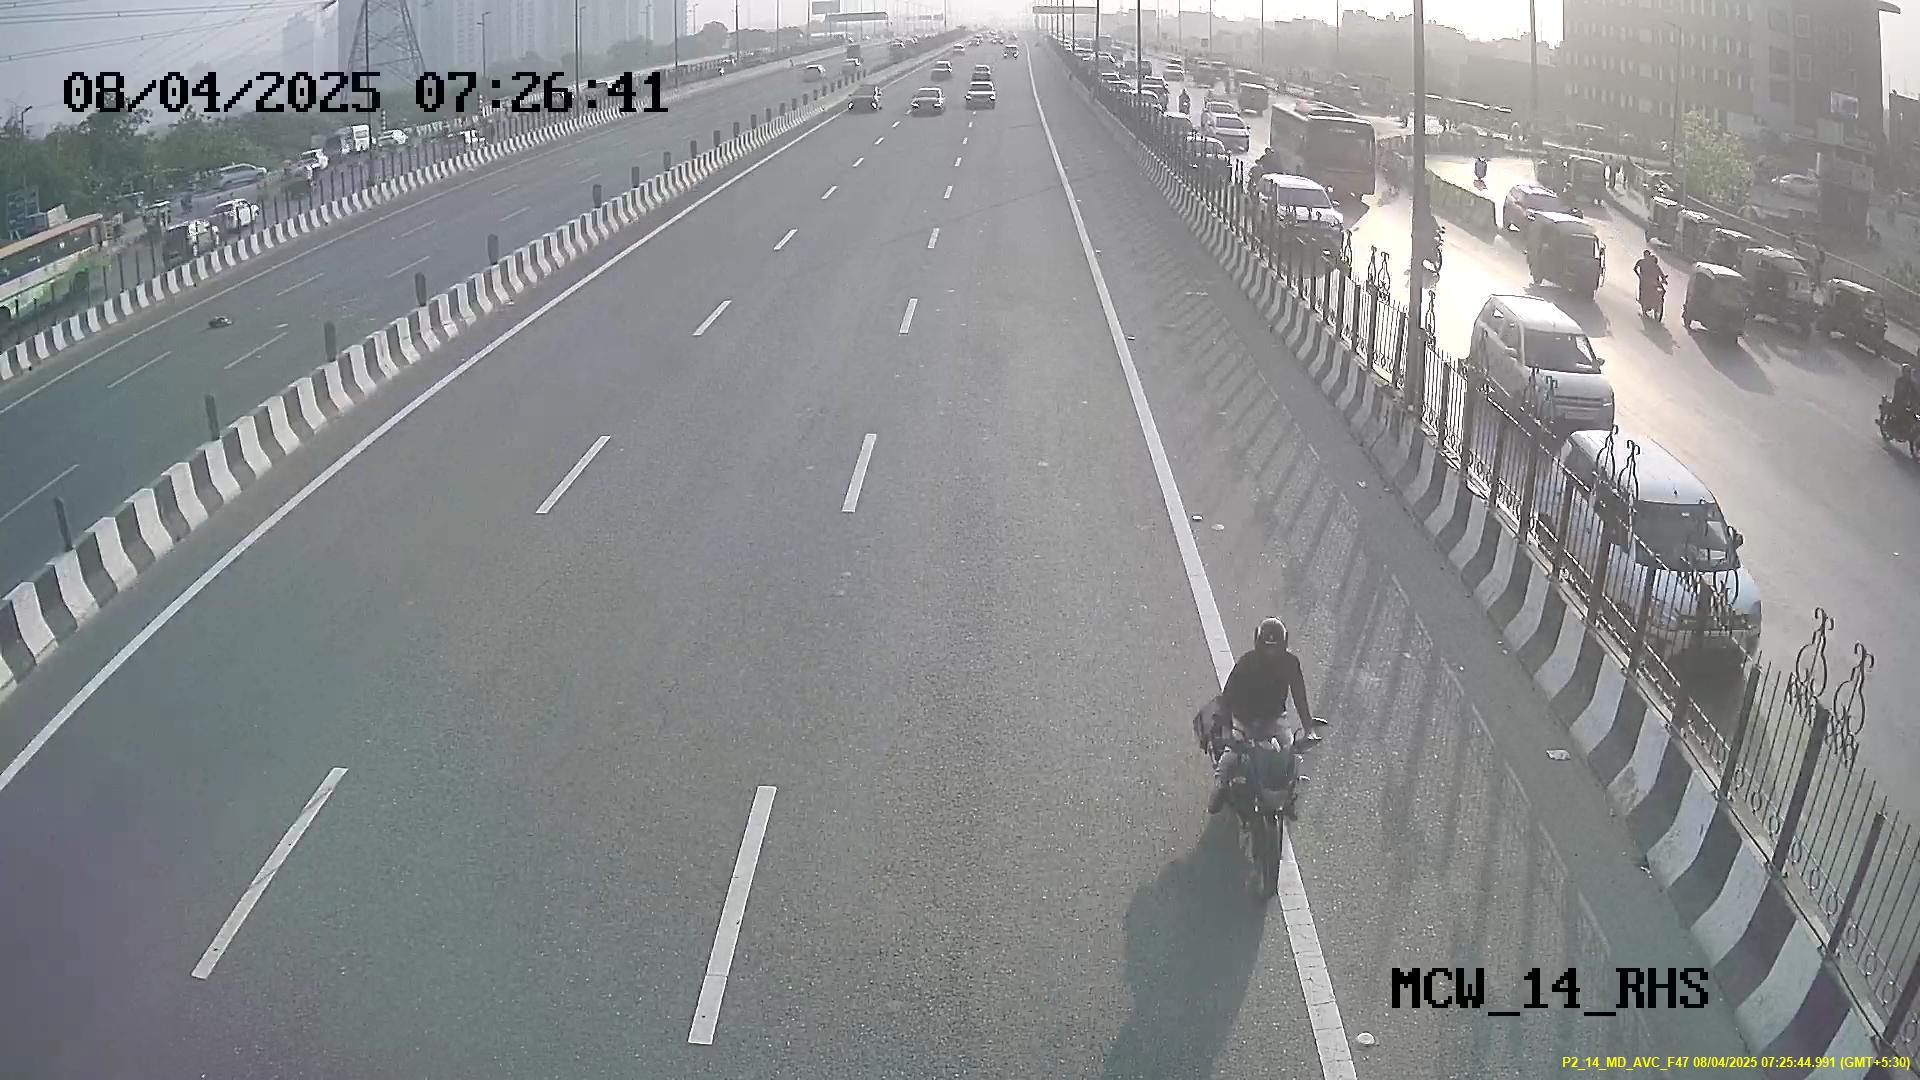bike: (1197, 603, 1325, 903)
